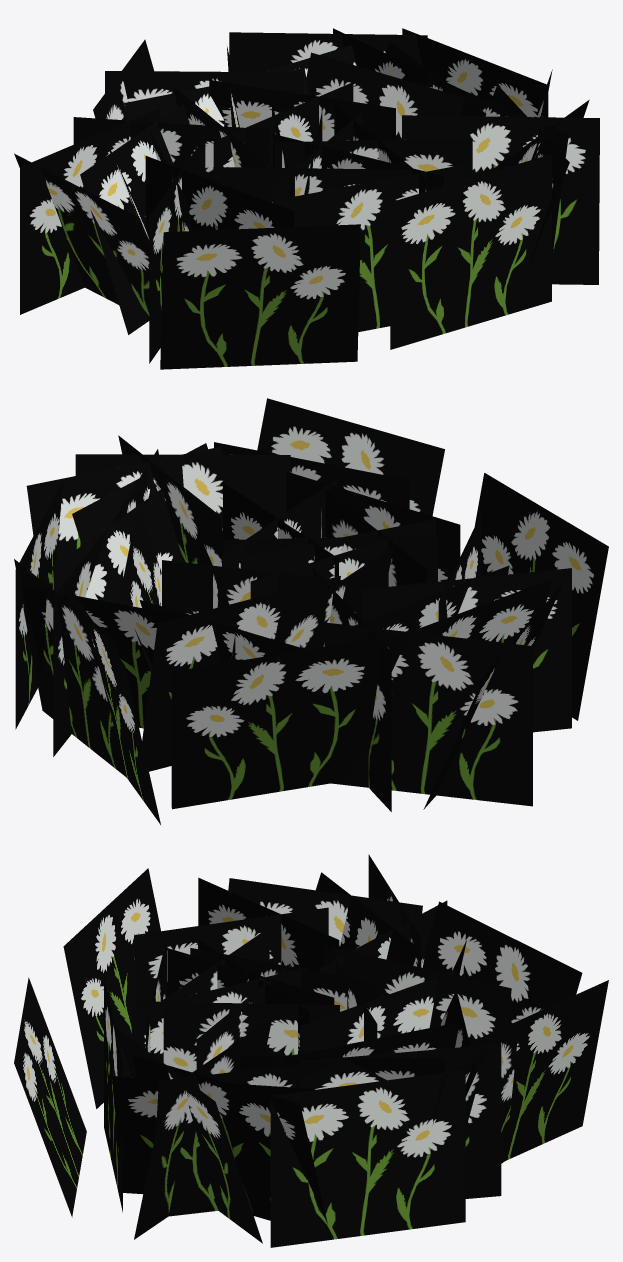
The model's file is space_chamomile.fbx.
3 renders of one model, top to bottom at view 1: azimuth 30°, elevation 25°; view 2: azimuth 150°, elevation 25°; view 3: azimuth 270°, elevation 25°, orthographic. The views are drawn at different scales.
Parts seen in each view (by area): view 1: Cube_3; view 2: Cube_3; view 3: Cube_3.
Part boxes in pixels (x1,y1,x2,y2): Cube_3: (14, 28, 599, 369); Cube_3: (14, 398, 608, 824); Cube_3: (14, 854, 608, 1247).
Size of the model in its own units: 118 by 35.83 by 118.
Materials: 1 (1 with a texture image).
